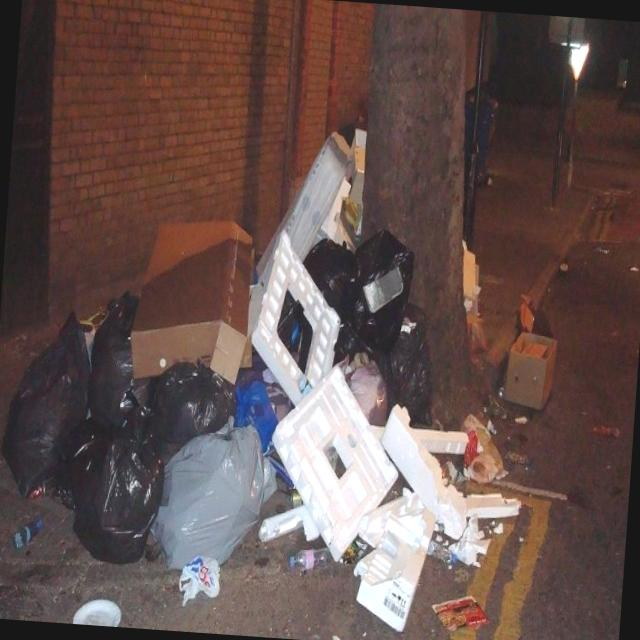garbage: (1, 130, 518, 629)
